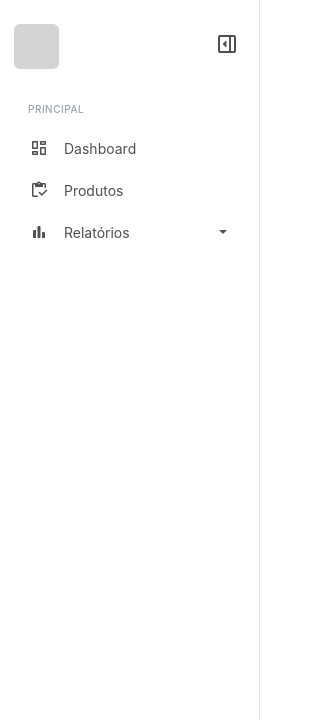
Test: StrSidebarComponent › fecha o submenu ao clicar novamente no mesmo item
Click the button with class "str-sidebar__item" showing "Relatórios": (130, 232) 16,212 -> 243,252
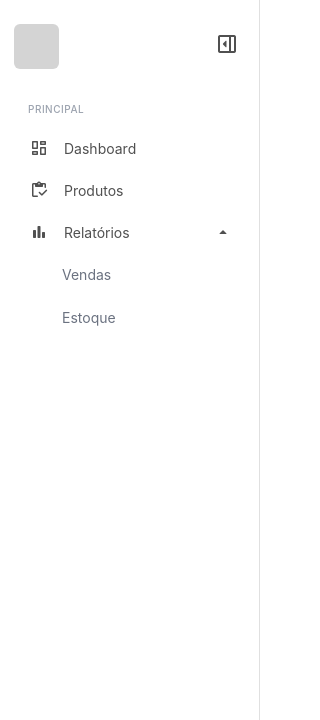
Click the button with class "str-sidebar__item" showing "Relatórios": (130, 232) 16,212 -> 243,252
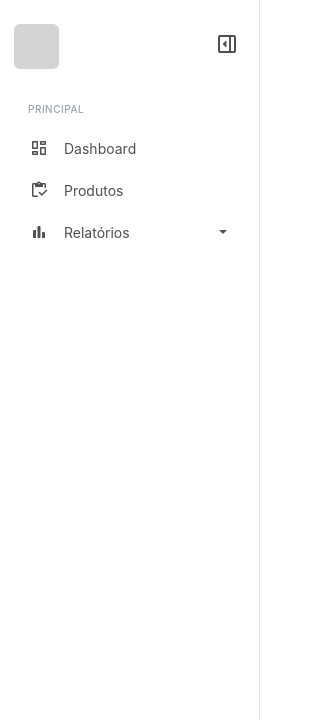
Check: the element with class "str-sidebar__submenu--open" is gone
